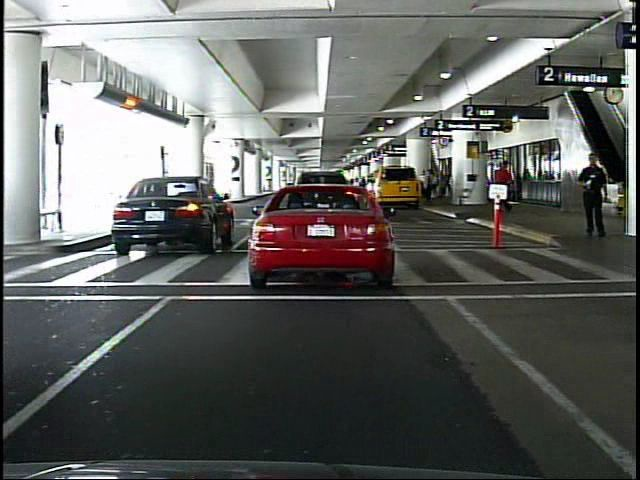person: (578, 151, 609, 242), (490, 159, 513, 215), (419, 165, 432, 202)
